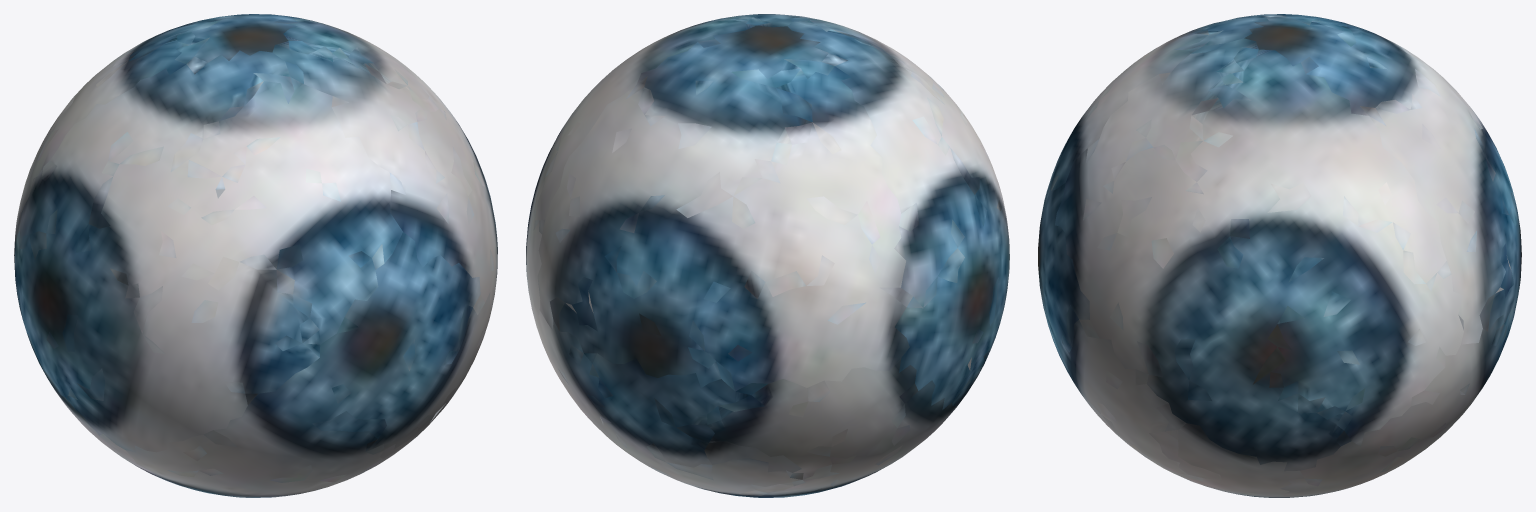
File: eye.glb
3 renders of one model, left to right at view 1: azimuth 30°, elevation 25°; view 2: azimuth 150°, elevation 25°; view 3: azimuth 270°, elevation 25°, orthographic.
Parts seen in each view (by area): view 1: geometry_0; view 2: geometry_0; view 3: geometry_0.
Boxes of the visible parts, x1,y1,x2,y2 form: geometry_0: (14,14,497,497); geometry_0: (526,14,1009,497); geometry_0: (1038,14,1521,497).
Bounding box in the file's own units: 0.024 × 0.024 × 0.024.
1 material, 1 textured.
